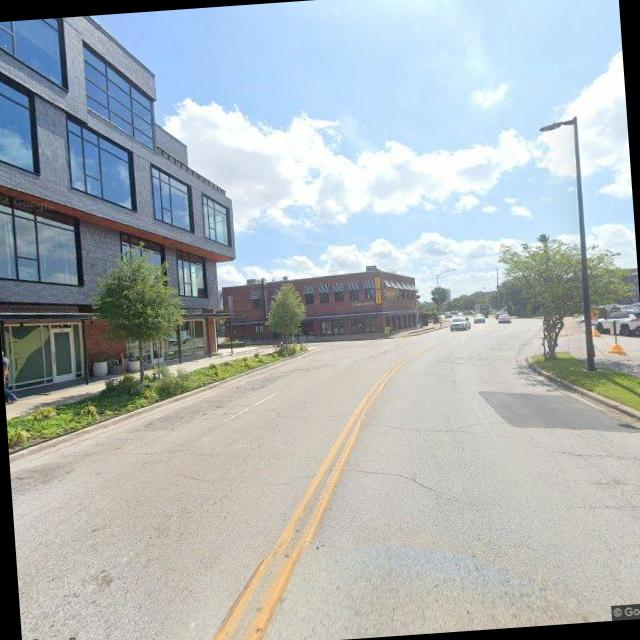crack: (339, 457, 454, 507), (361, 408, 500, 442), (540, 435, 640, 470), (578, 466, 640, 521)
